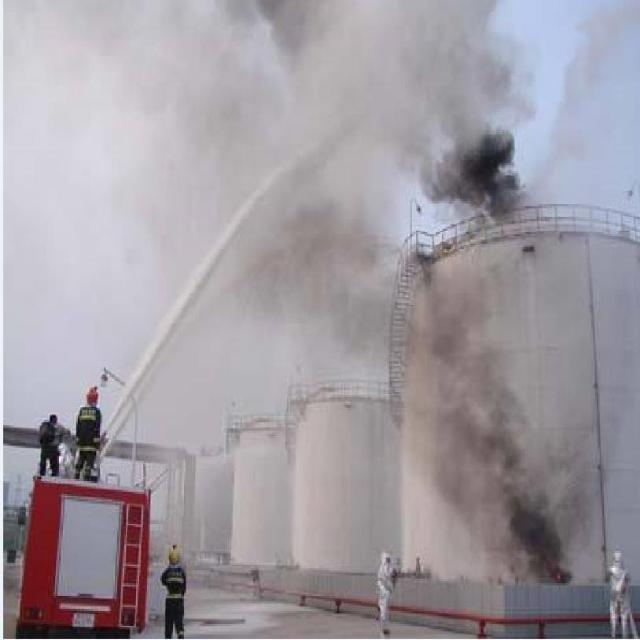Smoke: (2, 1, 636, 585)
